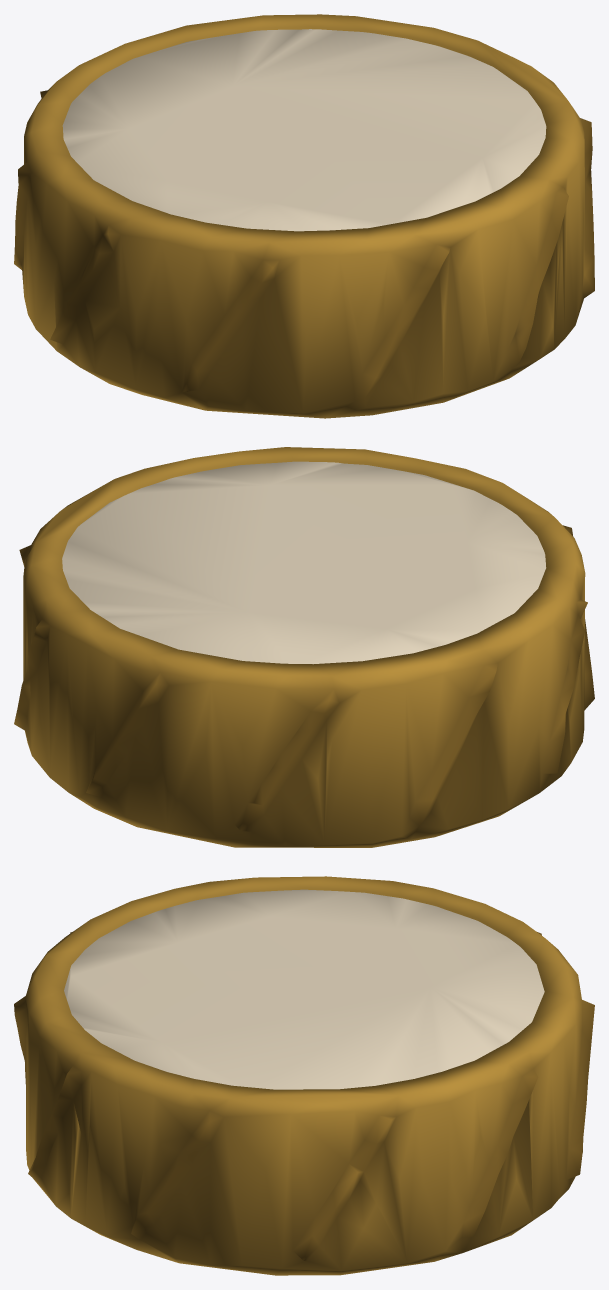
Rendered from tambor.glb.
3 views of the same model, one above another, from view 1: azimuth 30°, elevation 25°; view 2: azimuth 150°, elevation 25°; view 3: azimuth 270°, elevation 25° (orthographic).
Parts seen in each view (by area): view 1: Corpo, Membrana; view 2: Corpo, Membrana; view 3: Corpo, Membrana.
Boxes of the visible parts, <box> form: Corpo: <box>14,14,594,418</box>; Membrana: <box>62,29,546,231</box>; Corpo: <box>14,447,594,847</box>; Membrana: <box>62,461,546,664</box>; Corpo: <box>14,876,594,1275</box>; Membrana: <box>64,889,544,1089</box>.
Bounding box in the file's own units: 2.71 × 0.8992 × 2.71.
